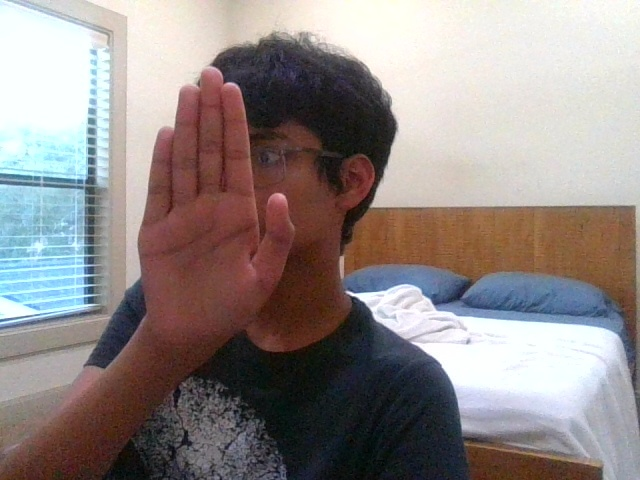hello: (137, 66, 295, 337)
